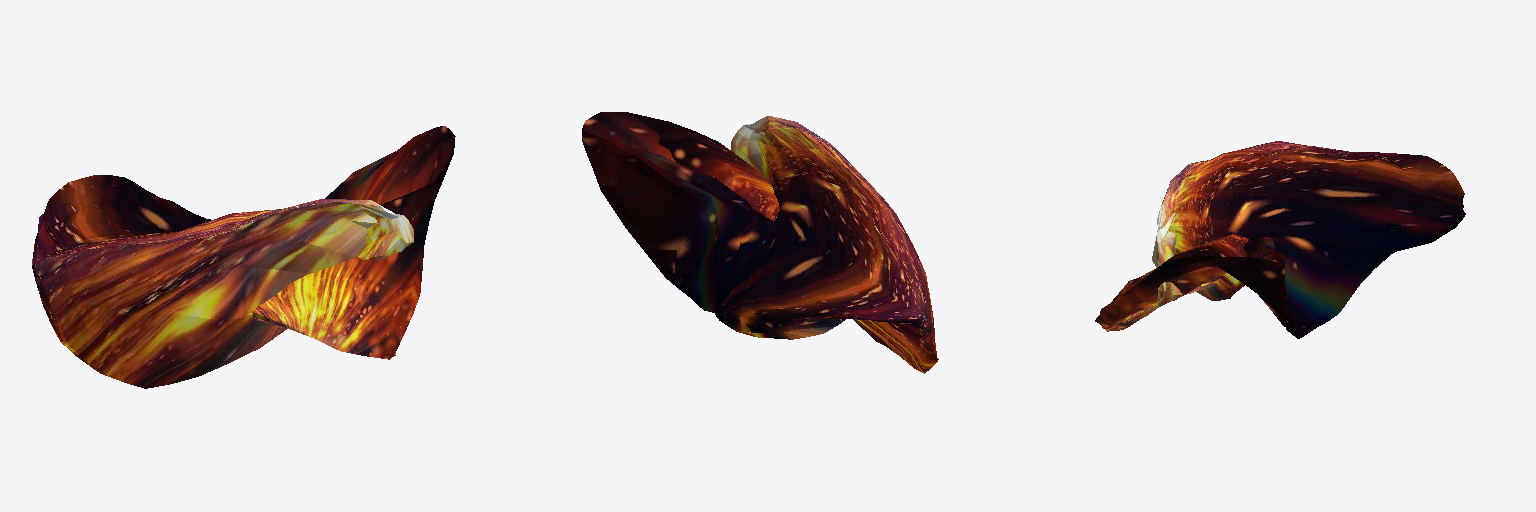
3 views of the same model, side by side, from view 1: azimuth 30°, elevation 25°; view 2: azimuth 150°, elevation 25°; view 3: azimuth 270°, elevation 25° (orthographic).
Parts seen in each view (by area): view 1: rock10:bolder4 rock10:bolderGroup1 rock10:polySurface1 group10; view 2: rock10:bolder4 rock10:bolderGroup1 rock10:polySurface1 group10; view 3: rock10:bolder4 rock10:bolderGroup1 rock10:polySurface1 group10.
Boxes of the visible parts, box(x1,y1,x2,y2) form: rock10:bolder4 rock10:bolderGroup1 rock10:polySurface1 group10: box(32, 126, 455, 388); rock10:bolder4 rock10:bolderGroup1 rock10:polySurface1 group10: box(582, 112, 938, 373); rock10:bolder4 rock10:bolderGroup1 rock10:polySurface1 group10: box(1095, 141, 1465, 338).
Bounding box in the file's own units: 9.2 × 4.1 × 7.88.
1 materials, 1 textured.